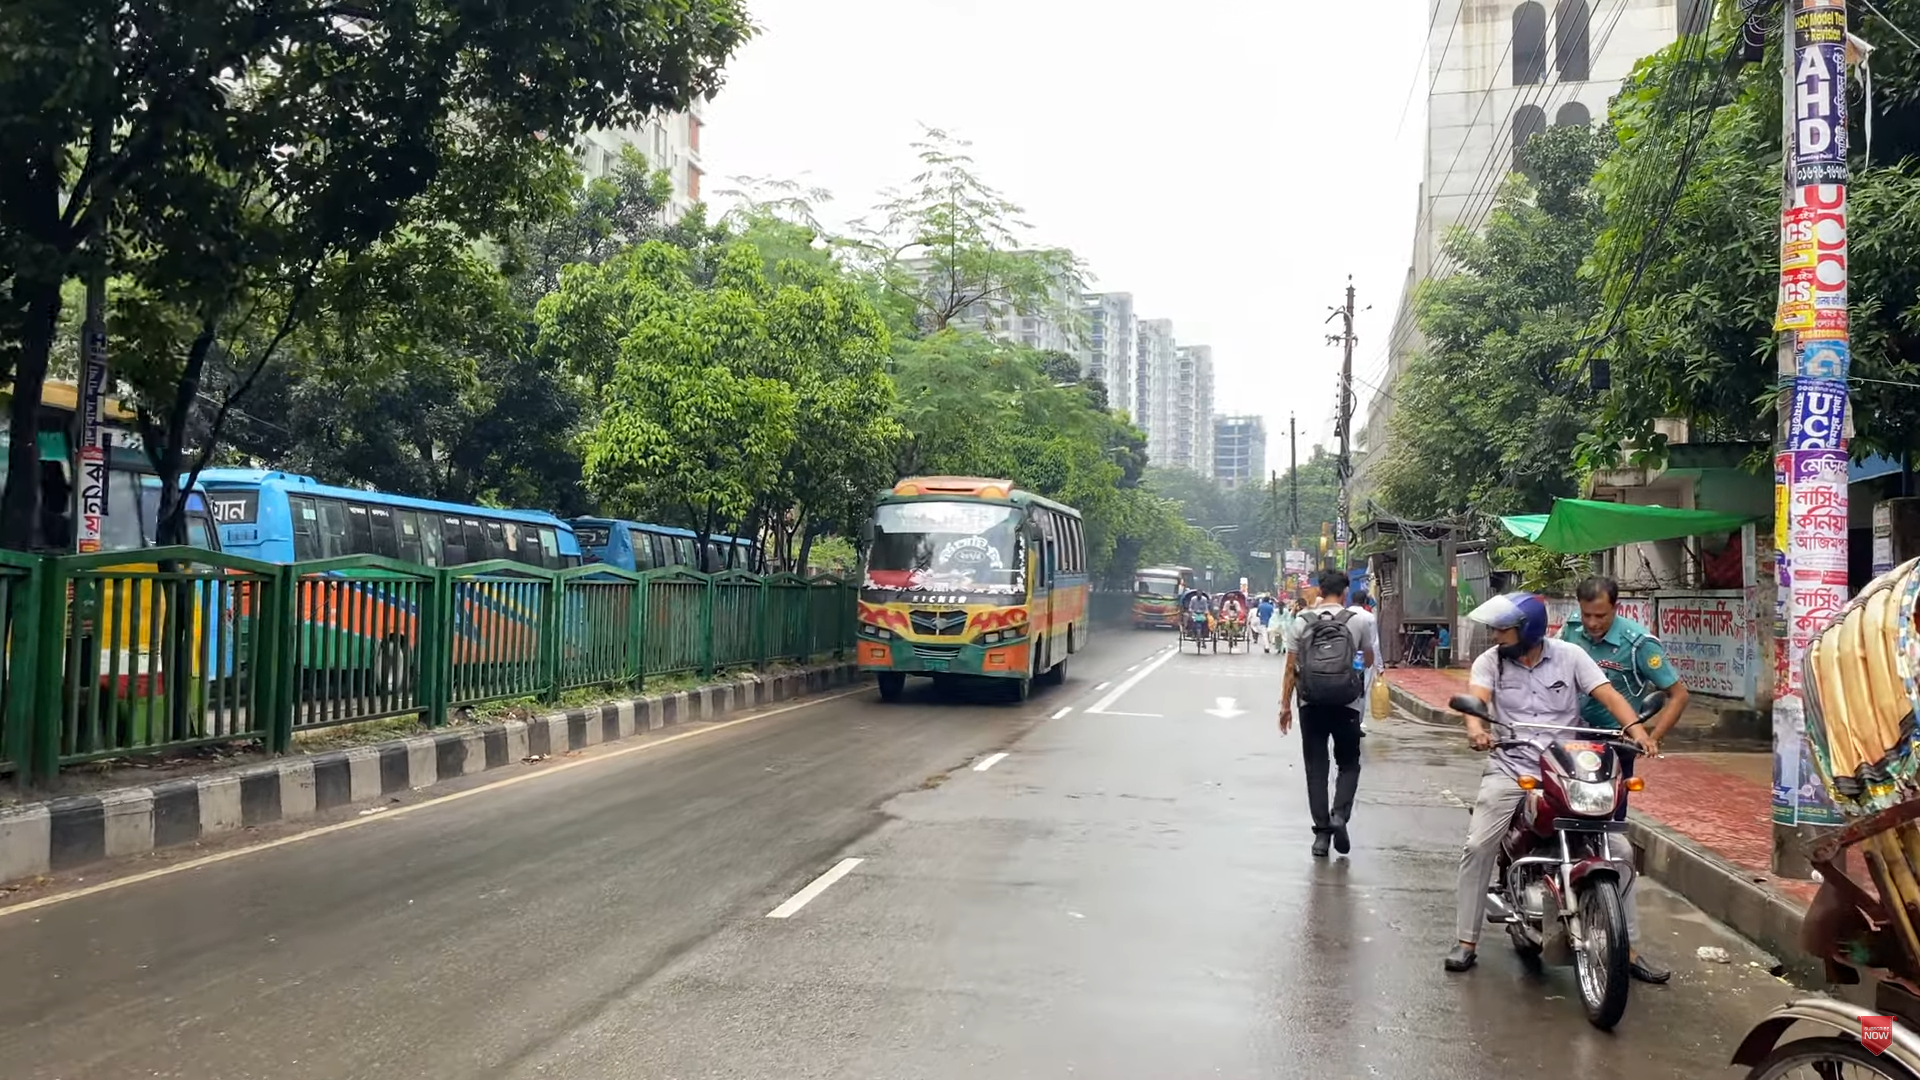Bus: (862, 461, 1099, 709)
Motorcycle: (1436, 588, 1661, 1033)
Pedestrian: (1275, 557, 1392, 876)
